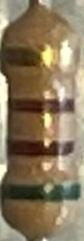Brown: (8, 139, 75, 160), (8, 96, 76, 112)
Green: (1, 182, 81, 205)
Side-Gold: (2, 45, 82, 70)
